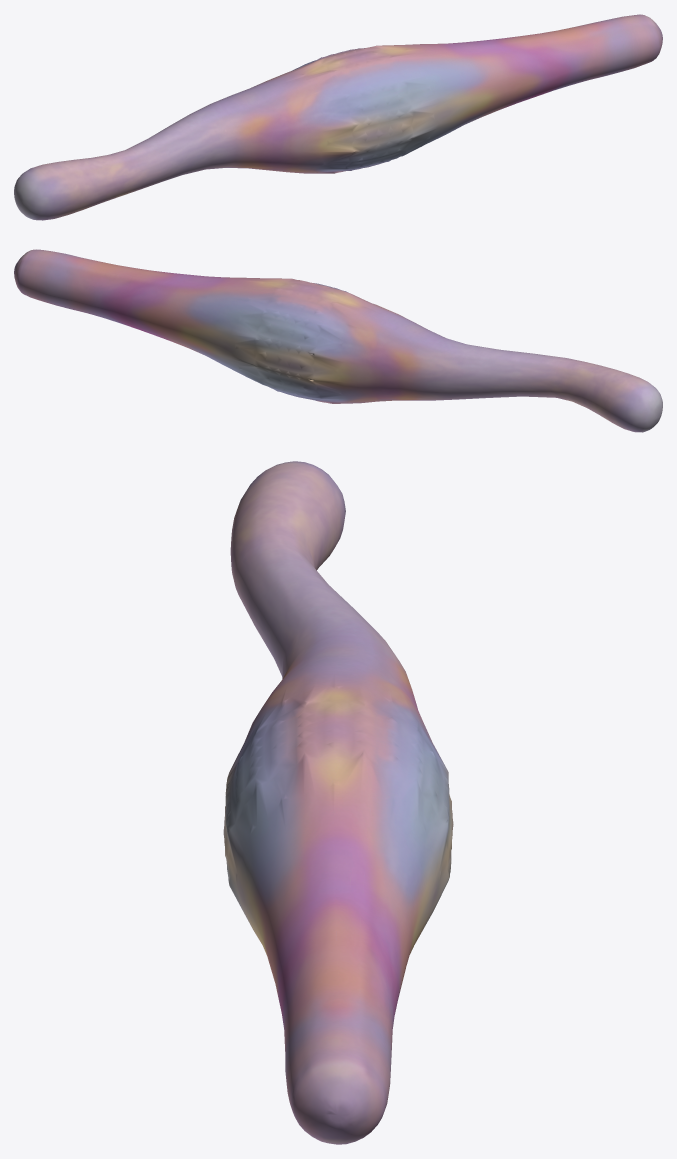
File: s09_housing_raw.glb
The picture shows the model from 3 angles, top to bottom: view 1: azimuth 30°, elevation 25°; view 2: azimuth 150°, elevation 25°; view 3: azimuth 270°, elevation 25°; orthographic projection. The views are drawn at different scales.
Parts seen in each view (by area): view 1: tripo_node_2414a436-d703-4458-b25f-81da91890435; view 2: tripo_node_2414a436-d703-4458-b25f-81da91890435; view 3: tripo_node_2414a436-d703-4458-b25f-81da91890435.
Boxes of the visible parts, x1=… form: tripo_node_2414a436-d703-4458-b25f-81da91890435: x1=14, y1=14, x2=662, y2=220; tripo_node_2414a436-d703-4458-b25f-81da91890435: x1=14, y1=249, x2=662, y2=432; tripo_node_2414a436-d703-4458-b25f-81da91890435: x1=223, y1=461, x2=453, y2=1144.
Bounding box in the file's own units: 0.9995 × 0.1577 × 0.1577.
Materials: 1 (1 with a texture image).
